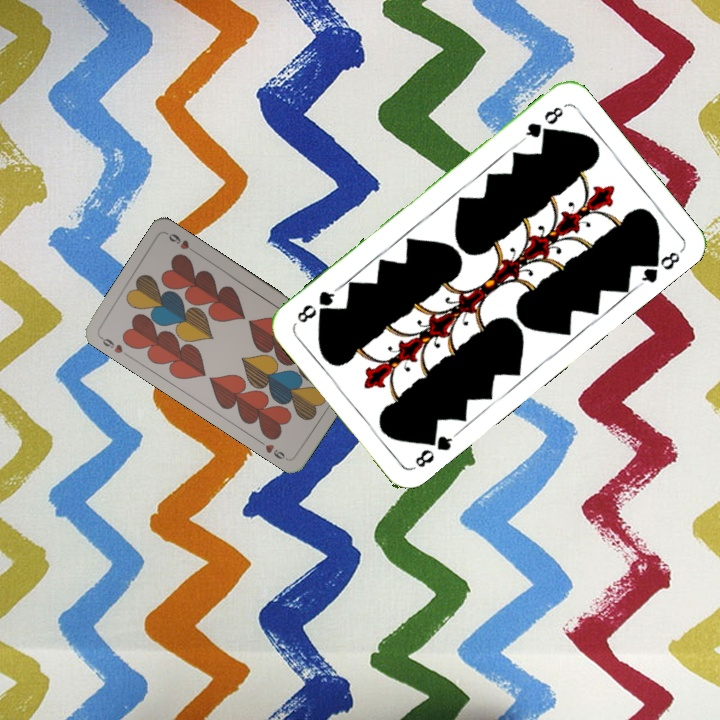G8: (410, 427, 460, 471), (518, 102, 566, 144)
H9: (96, 332, 132, 359)
